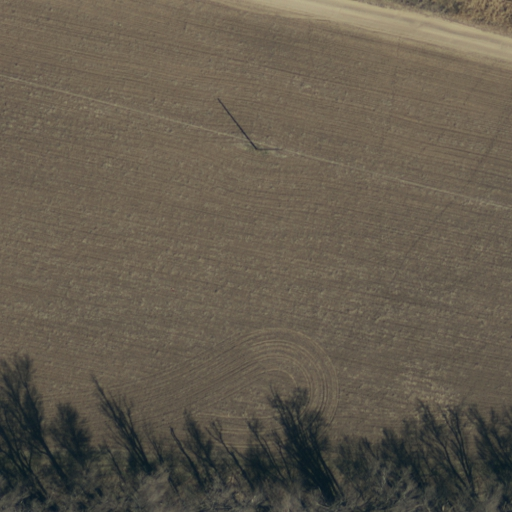DT: (251, 135, 289, 165)
